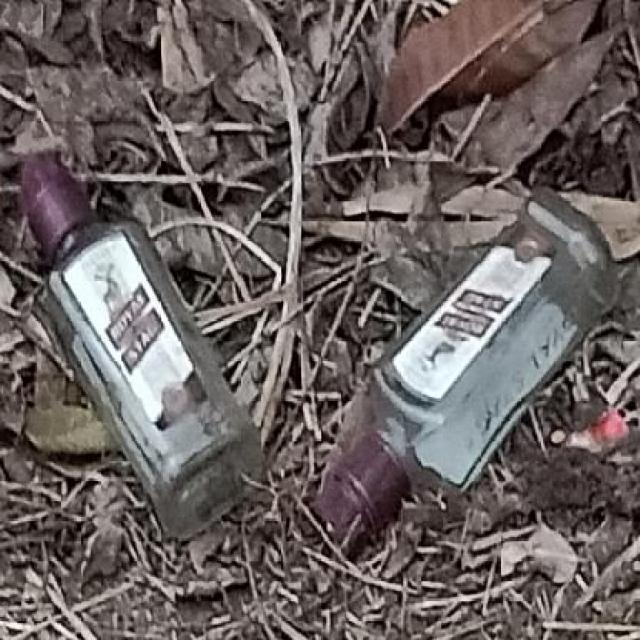garbage: (8, 145, 632, 561), (8, 5, 616, 216)
